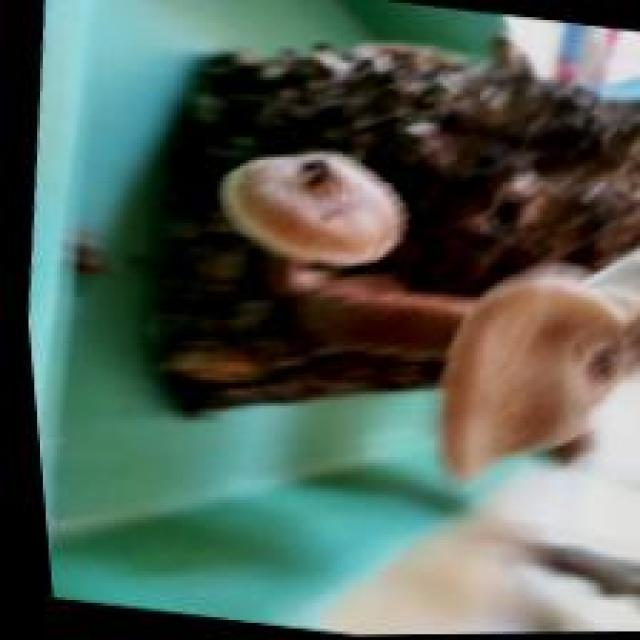chanterelle: (134, 31, 637, 483)
